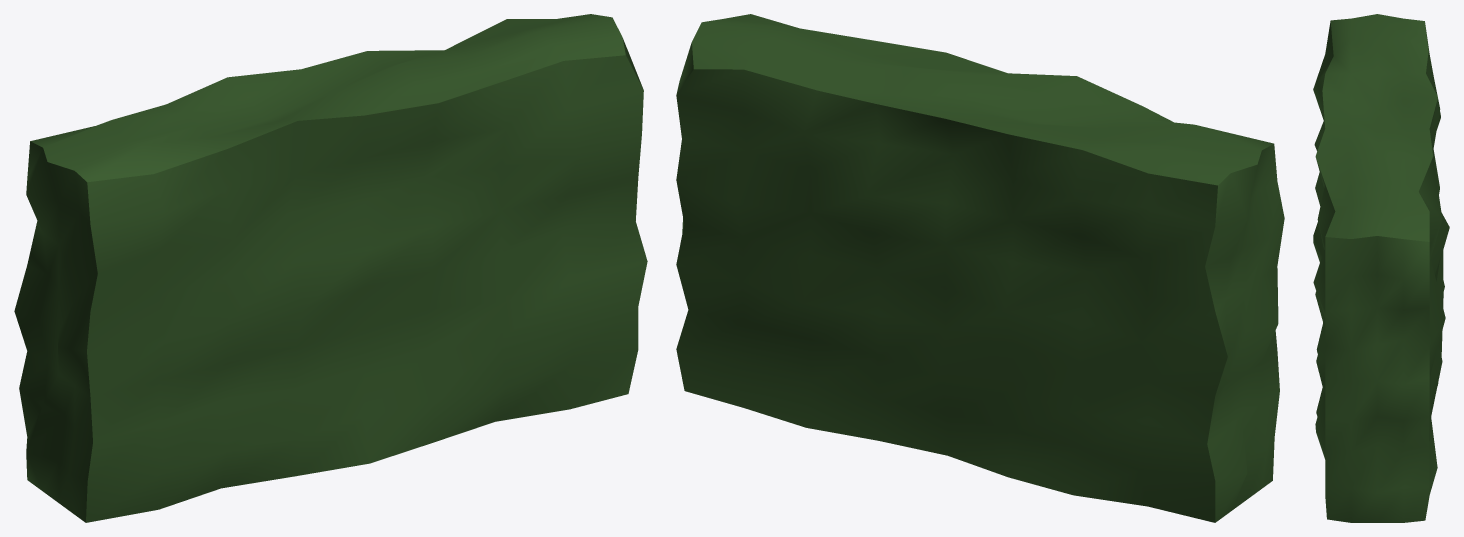
File: HedgeModel_01.fbx
3 renders of one model, left to right at view 1: azimuth 30°, elevation 25°; view 2: azimuth 150°, elevation 25°; view 3: azimuth 270°, elevation 25°, orthographic. The views are drawn at different scales.
Parts seen in each view (by area): view 1: pCube1; view 2: pCube1; view 3: pCube1.
Boxes of the visible parts, <box> form: pCube1: <box>14,14,647,522</box>; pCube1: <box>676,14,1284,522</box>; pCube1: <box>1313,14,1449,522</box>.
Size of the model in its own units: 10.58 by 6.22 by 2.62.
